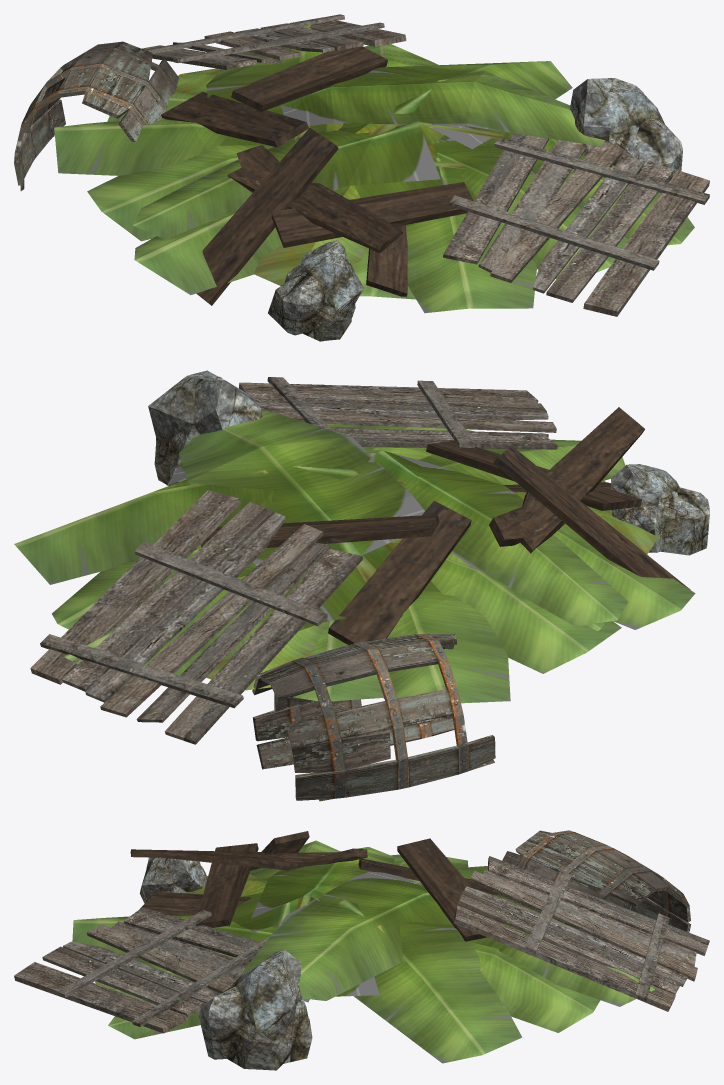
The model's file is props_garbage_02_lod_00.FBX.
The picture shows the model from 3 angles, top to bottom: view 1: azimuth 30°, elevation 25°; view 2: azimuth 150°, elevation 25°; view 3: azimuth 270°, elevation 25°; orthographic projection. The views are drawn at different scales.
Parts seen in each view (by area): view 1: props_garbage_02_lod_00; view 2: props_garbage_02_lod_00; view 3: props_garbage_02_lod_00.
Part boxes in pixels (left/top/right/bottom): props_garbage_02_lod_00: left=14, top=14, right=709, bottom=341; props_garbage_02_lod_00: left=14, top=370, right=709, bottom=801; props_garbage_02_lod_00: left=14, top=830, right=709, bottom=1070.
Size of the model in its own units: 350 by 108 by 469.
